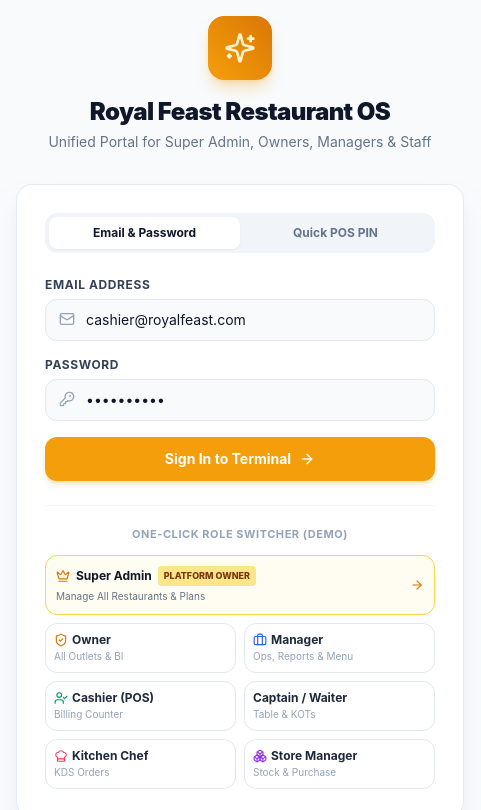
Test: LoginPage Component › populates credentials when quick demo role buttons are clicked
Click the text "Owner". click: (92, 640)
box: [72,632,111,648]
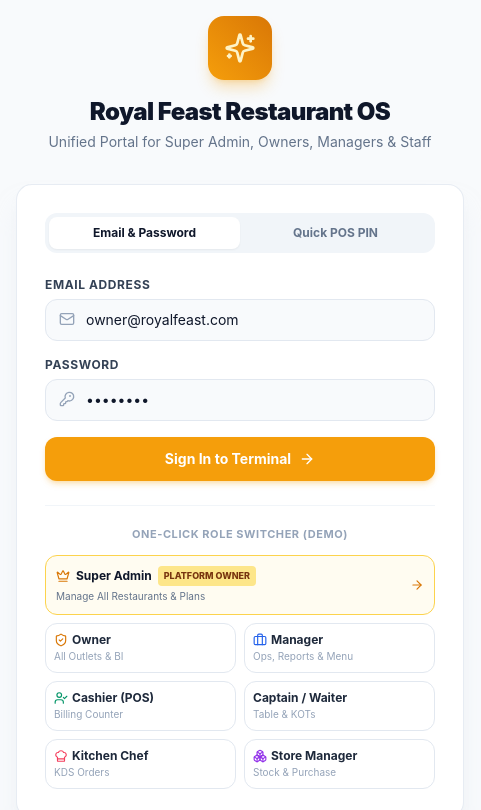
Check: the field with placeholder "name@restaurant.com" holds "owner@royalfeast.com", box [45,299,435,341]
